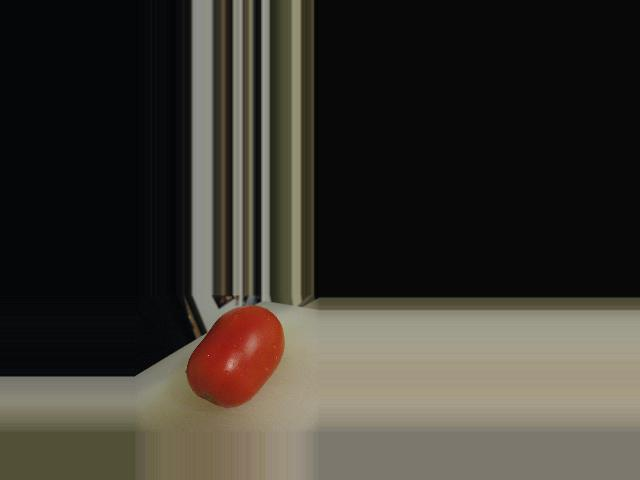tomato: (186, 305, 284, 407)
